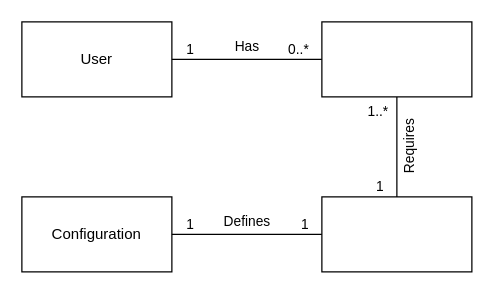
Some shapes in this 494 by 294 pixel diagram are drawn without their labels. Here are the shapes that lost their labels. From the top down, the box of each, then its label:
(321, 21, 472, 97): Role
(321, 196, 472, 272): Process
